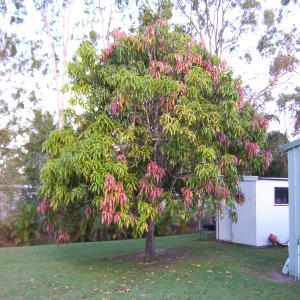Tree: (38, 16, 272, 262)
